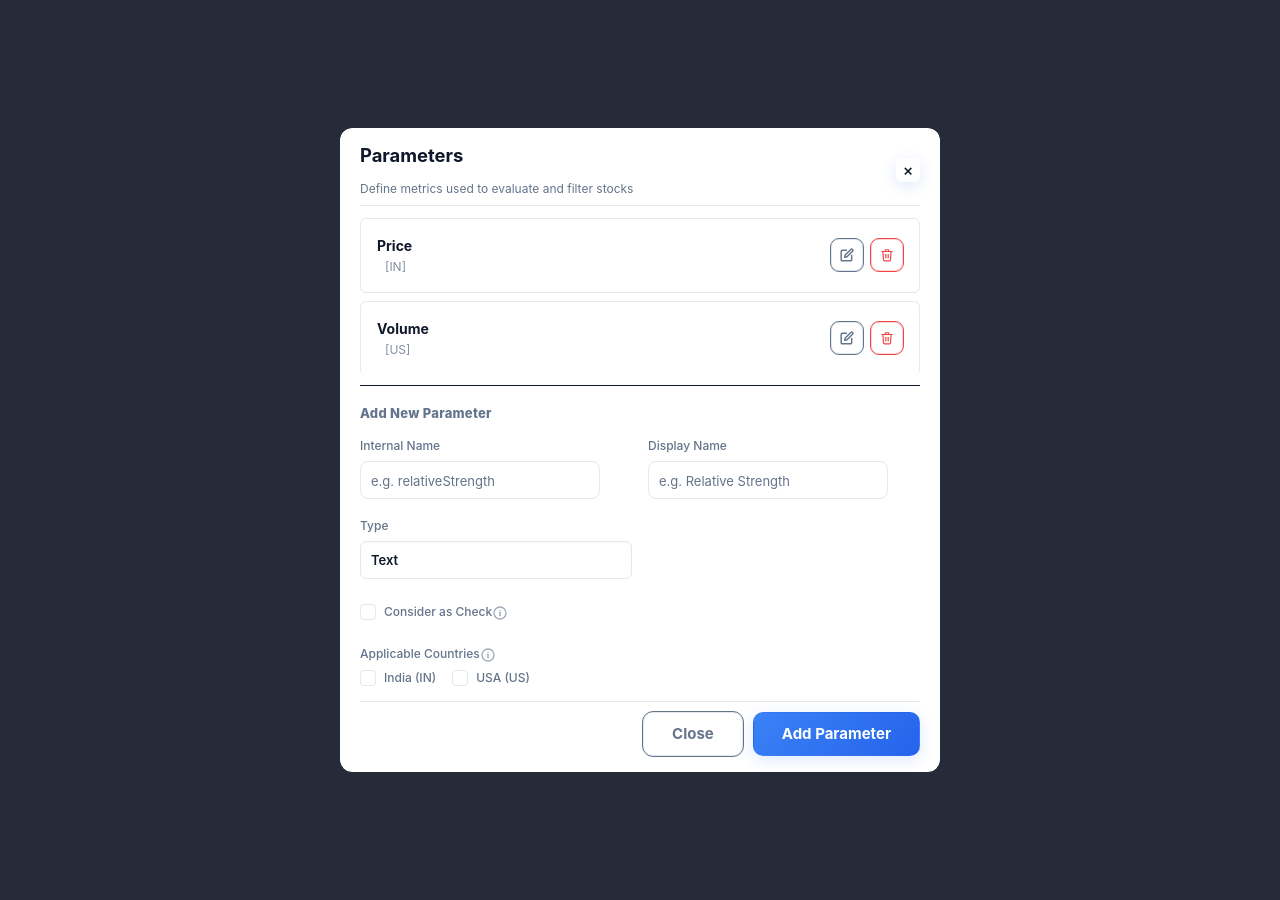
Test: ManageParamsModal › shows error if internal name already exists
Type "p1" into the field with placeholder "e.g. relativeStrength".
click(480, 480); type("p1")  # box [360,461,600,499]
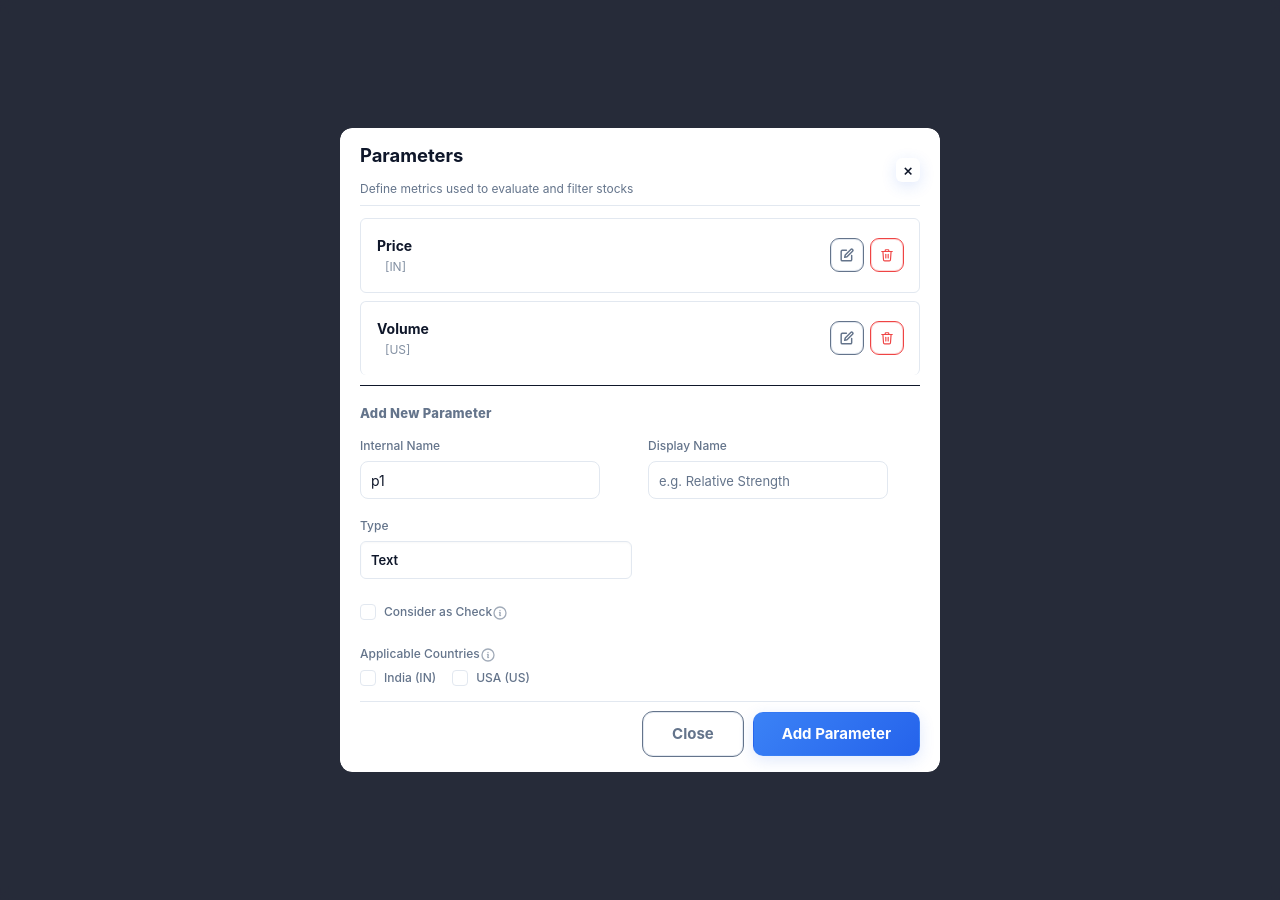
Type "Duplicate" into the field with placeholder "e.g. Relative Strength".
click(768, 480); type("Duplicate")  # box [648,461,888,499]
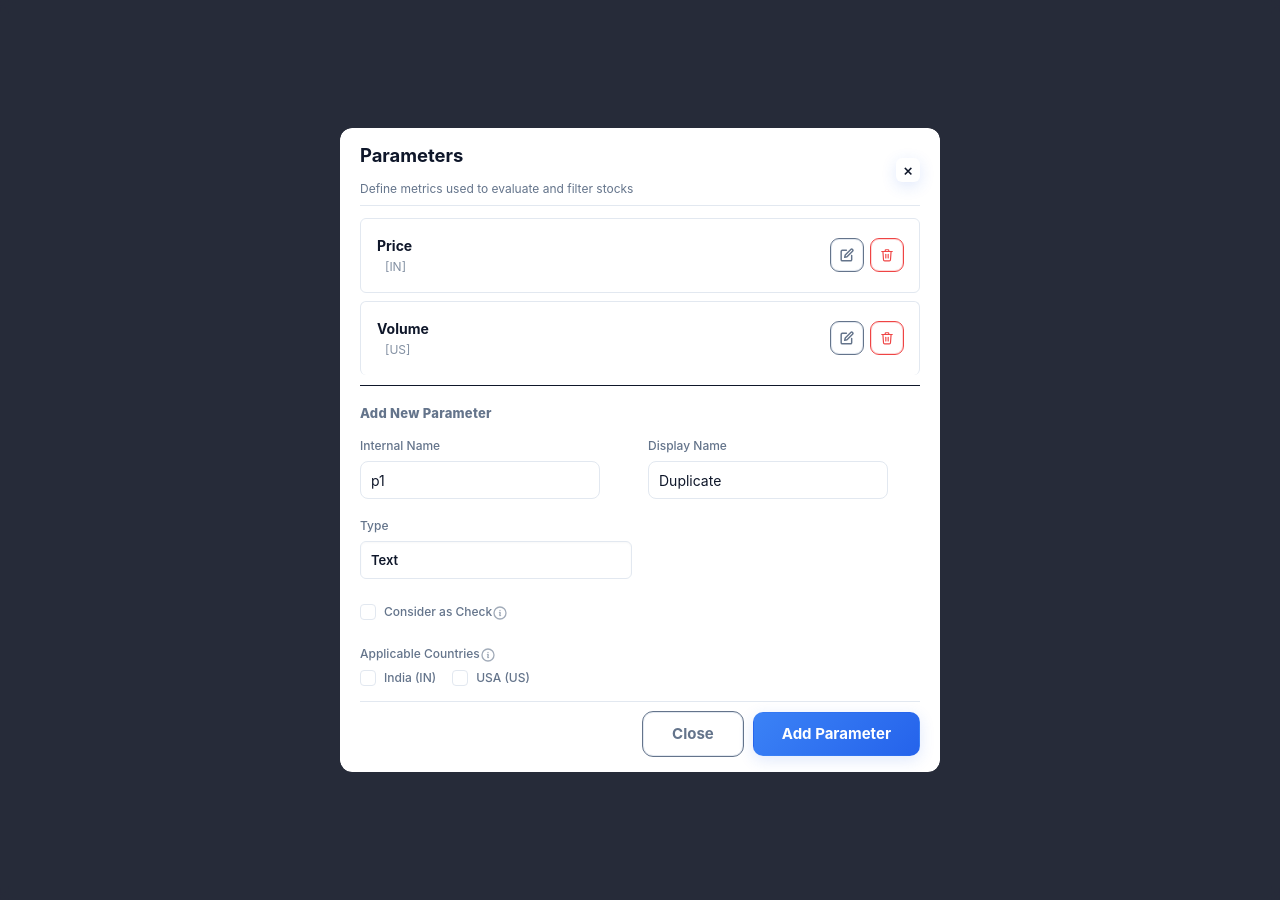
Click the button "Add Parameter".
click(836, 734)  # box [753,712,920,756]
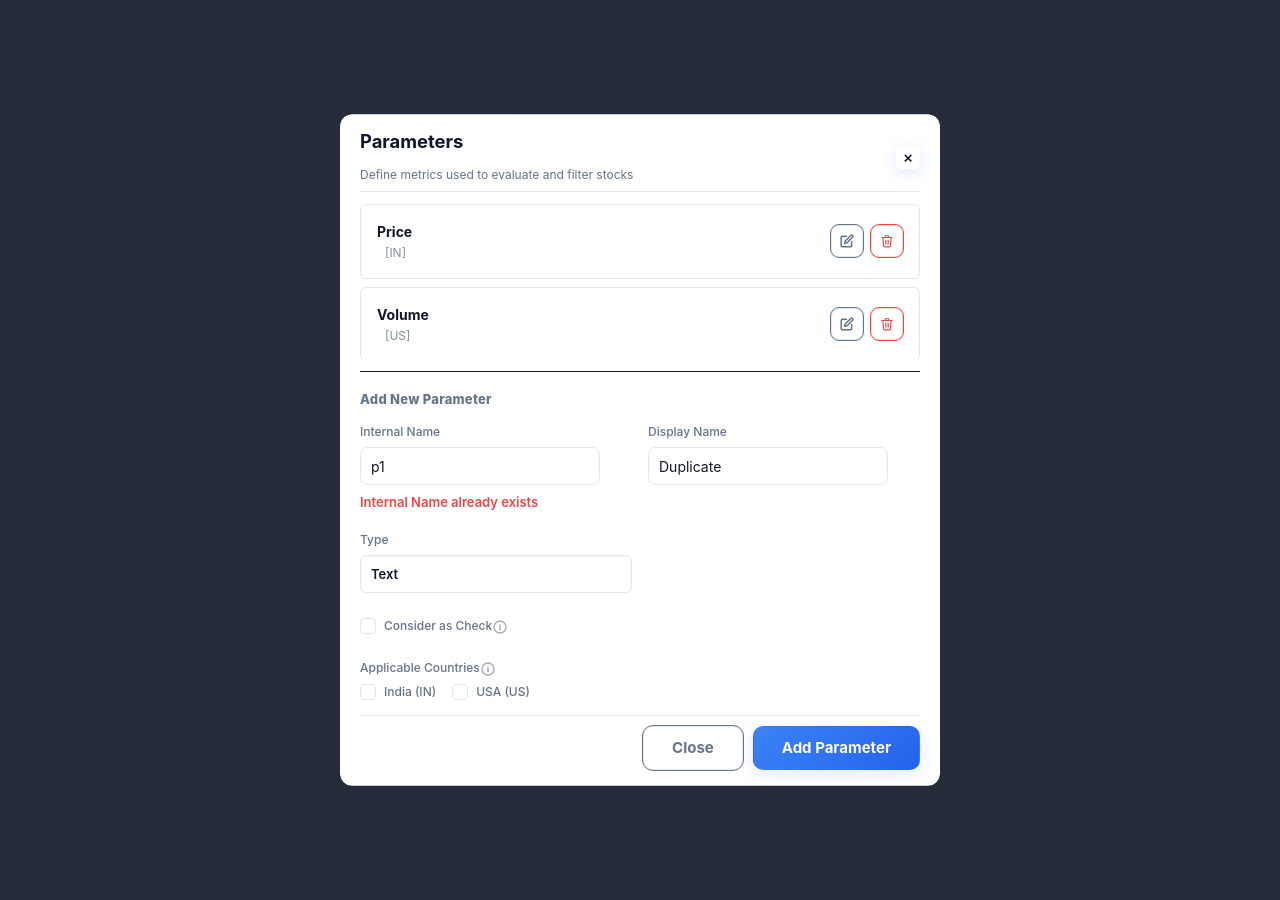
Check: the text "Internal Name already exists" is shown, box [360,494,538,510]
